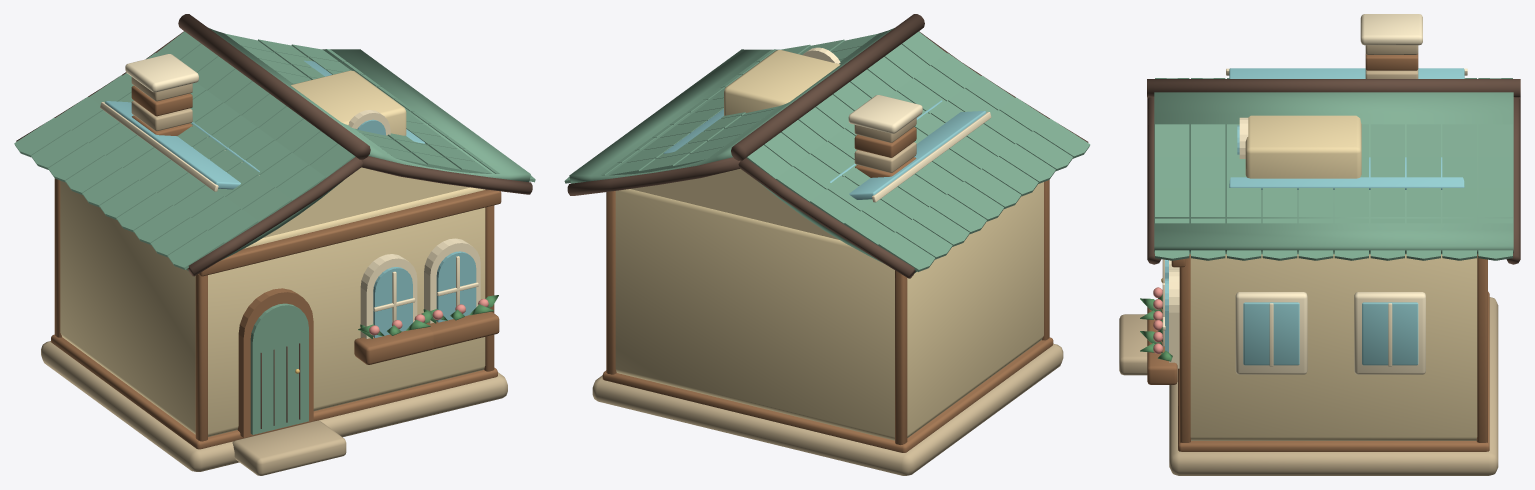
Rendered from greenhouse.glb.
3 views of the same model, side by side, from view 1: azimuth 30°, elevation 25°; view 2: azimuth 150°, elevation 25°; view 3: azimuth 270°, elevation 25° (orthographic). The views are drawn at different scales.
Visible parts, largest first — view 1: greenhouse_crafted_mesh; view 2: greenhouse_crafted_mesh; view 3: greenhouse_crafted_mesh.
Part boxes in pixels (left/top/right/bottom): greenhouse_crafted_mesh: left=14, top=14, right=535, bottom=475; greenhouse_crafted_mesh: left=564, top=14, right=1090, bottom=475; greenhouse_crafted_mesh: left=1119, top=14, right=1520, bottom=475.
Bounding box in the file's own units: 5 × 4.2 × 4.64.
